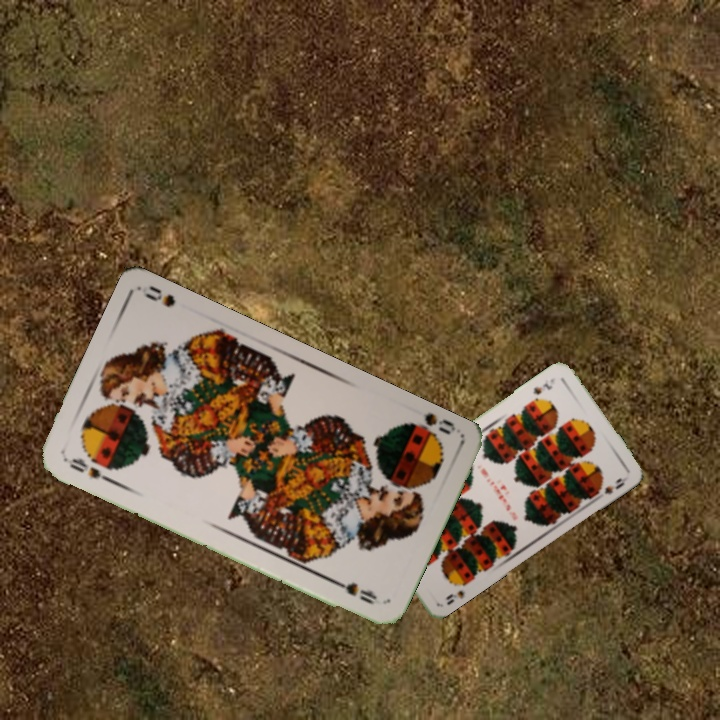S9: (442, 576, 472, 608), (529, 373, 557, 397)
SO: (399, 409, 459, 445), (62, 454, 118, 487)
